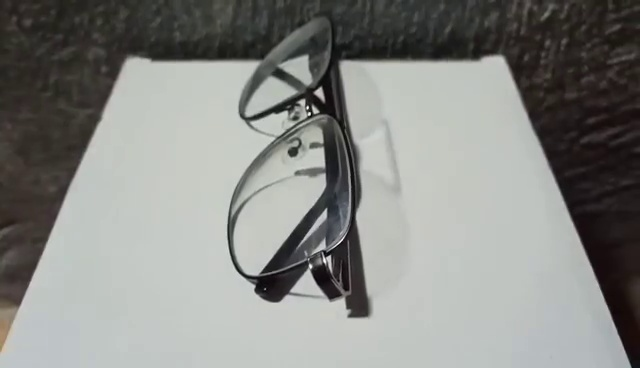glasses: (223, 6, 375, 318)
